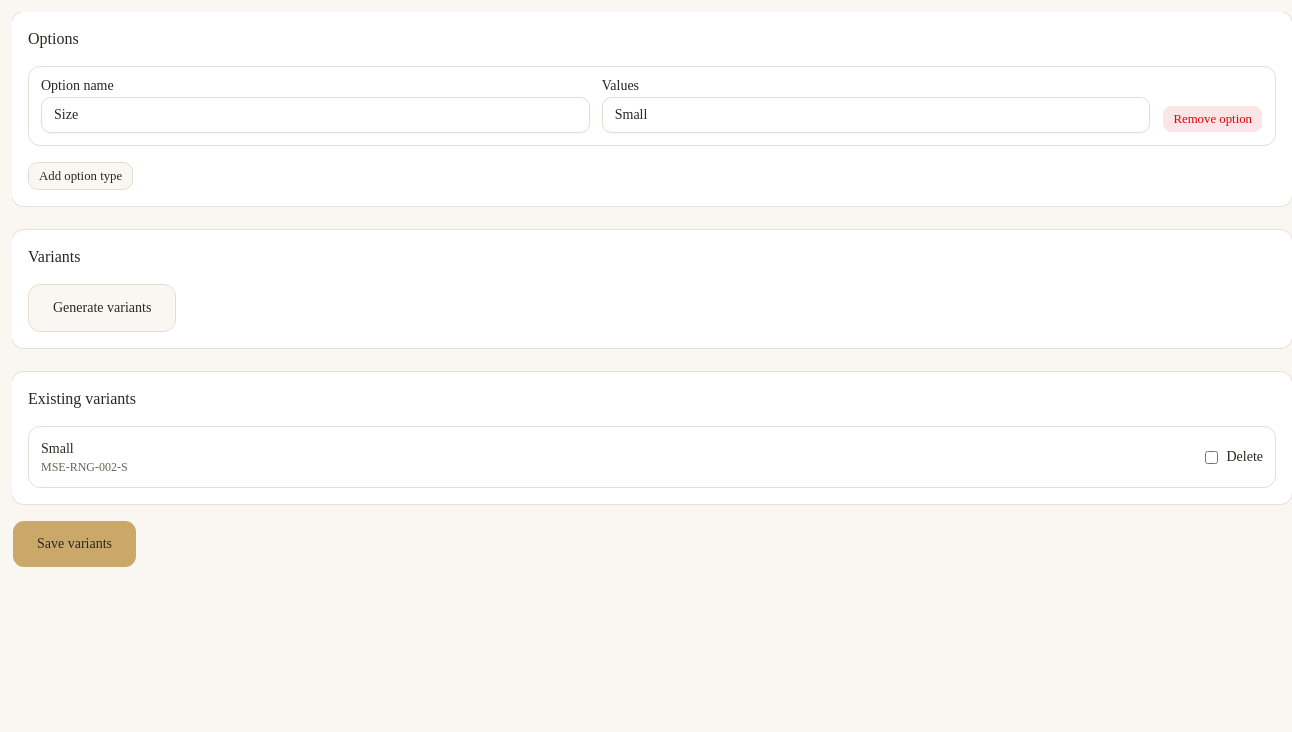
VariantStructurePanel › a generic failure shows the fallback error message
Click the checkbox labelled "Delete" at point(1212, 457), box [1206,450,1218,464]
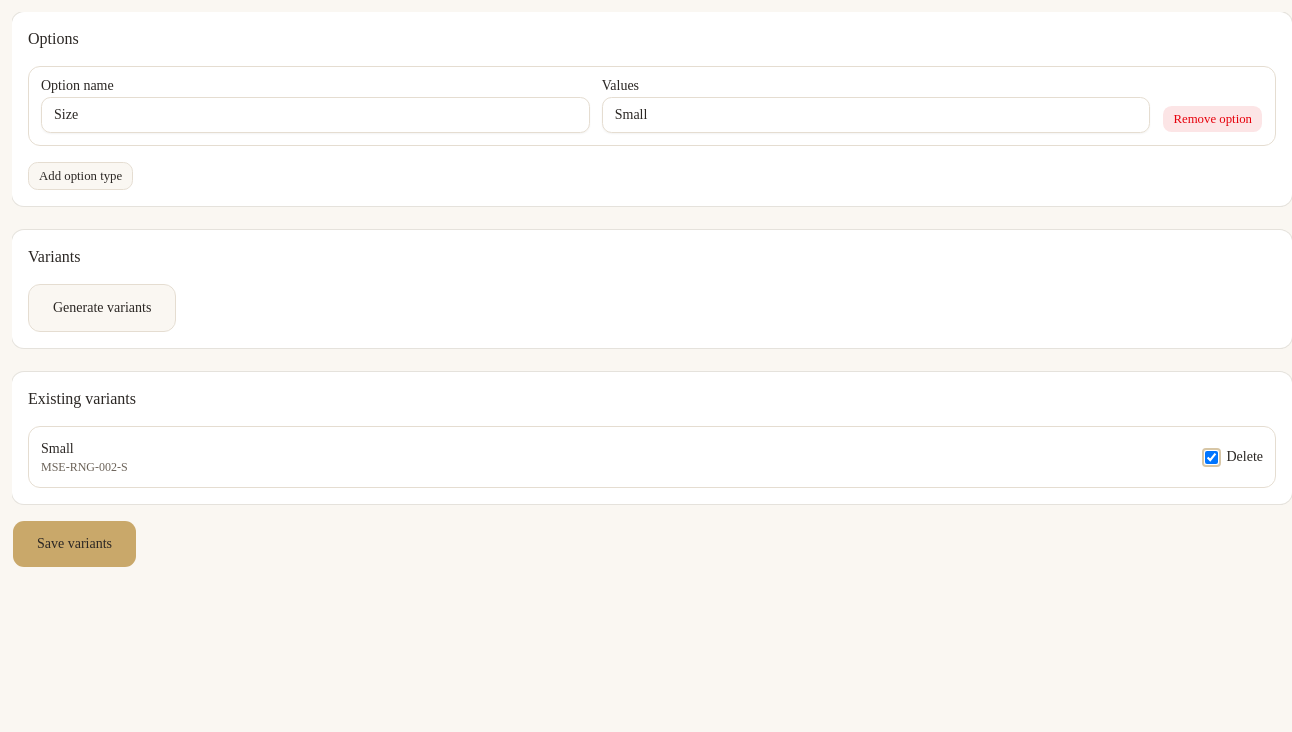
Click the button "Save variants" at point(74, 544), box [12,520,137,568]
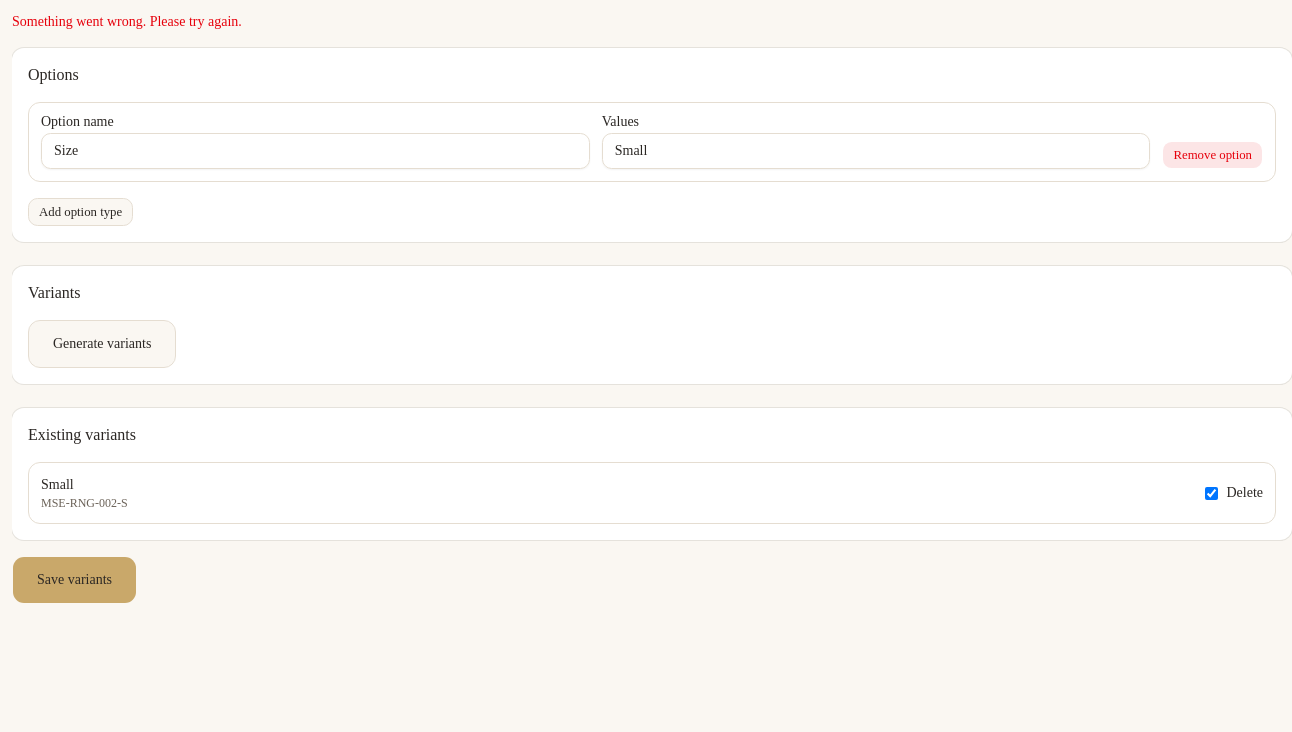
Expected: the message shows "Something went wrong", [12,14,242,29]
